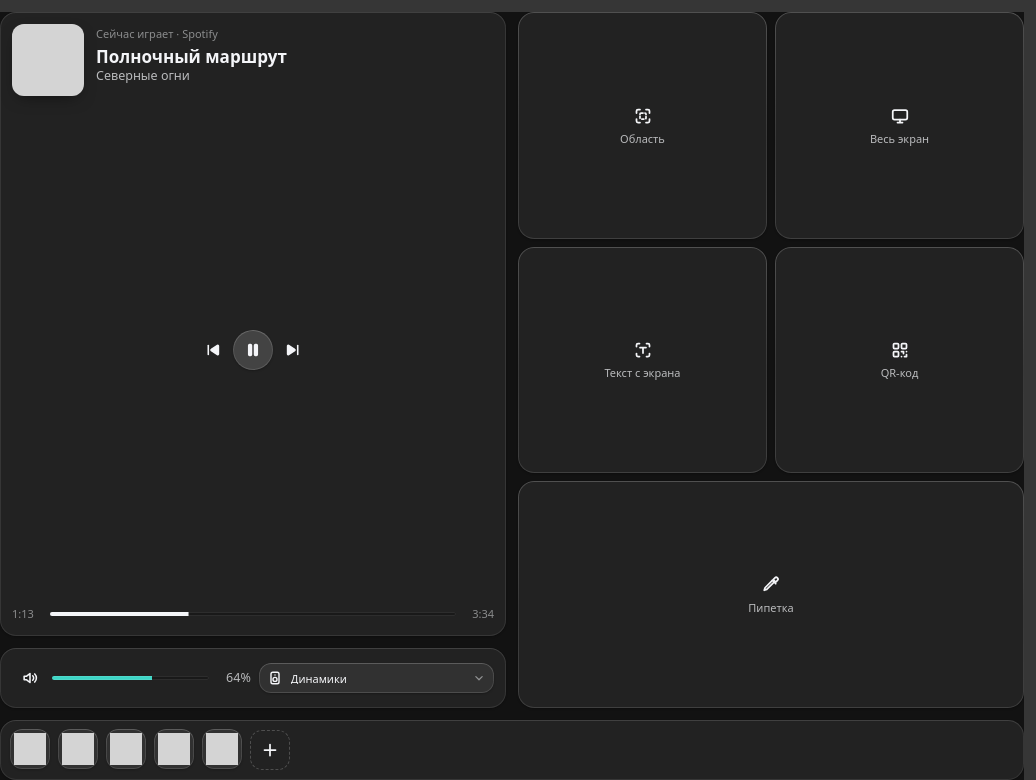
Scenario: Home tab: volume › moving the slider sets the volume
Expected: the text "Полночный маршрут" is shown, [96,44,287,68]
Set the slider named "Громкость" to "30" at {"x": 102, "y": 678}, box [52,668,209,688]
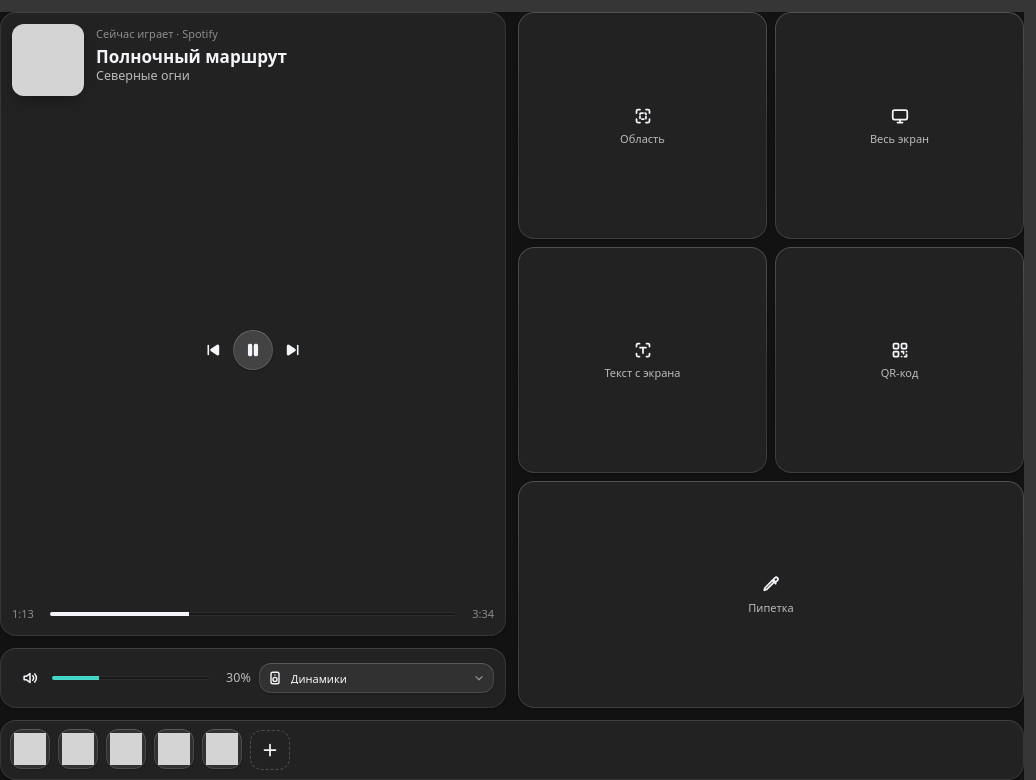
Expected: the text "30%" is shown, [226,669,251,686]
